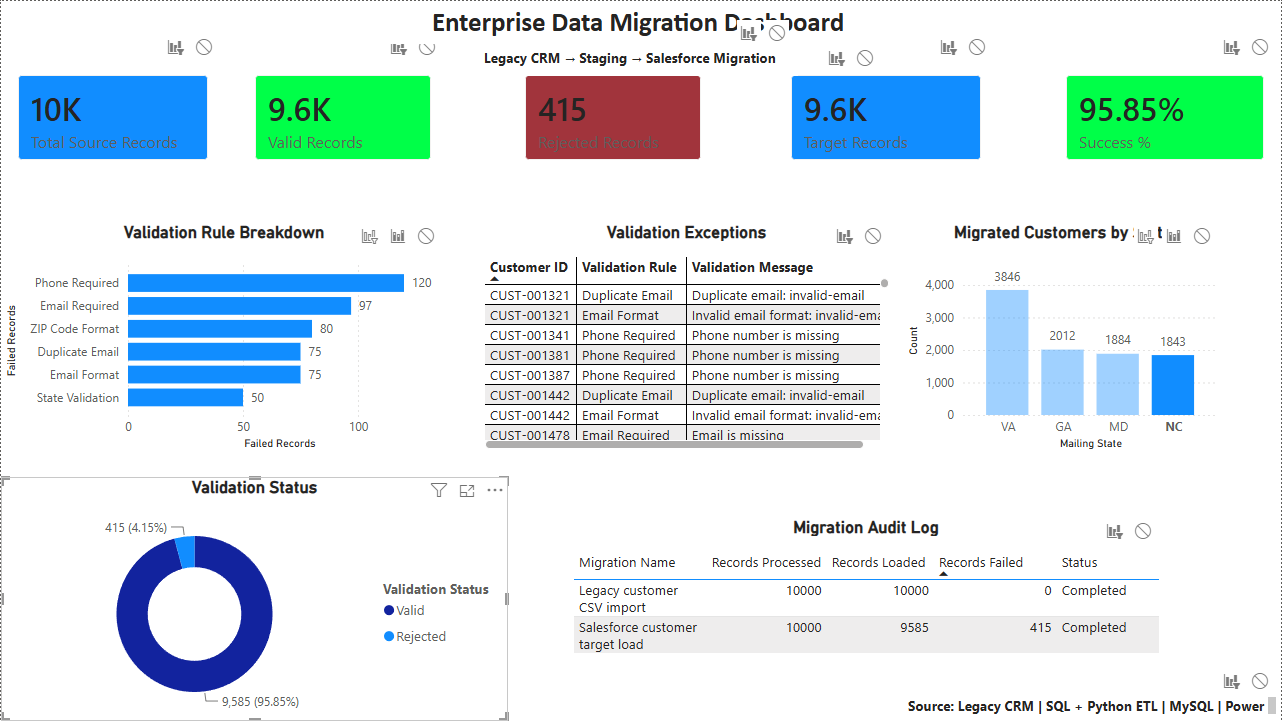

What the dashboard file says about the page in this screenshot:
{"tool":"powerbi","page":{"name":"Enterprise Data Migration Dashboard","canvas":[1280,720],"ordinal":0},"visuals":[{"type":"cardVisual","fields":{"Data":["enterprise_data_migration legacy_customers (2).Total_Source_Records"]},"box":[0,57.1,223.6,119],"z":0},{"type":"cardVisual","fields":{"Data":["Count(enterprise_data_migration staging_customers.legacy_customer_id)"]},"box":[236.7,57.1,209.9,119.4],"z":1000},{"type":"cardVisual","fields":{"Data":["enterprise_data_migration staging_customers.Rejected Records"]},"box":[506.8,57.1,209.9,119.4],"z":2000},{"type":"cardVisual","fields":{"Data":["Count(enterprise_data_migration salesforce_customers.legacy_customer_id)"]},"box":[773.2,57.1,223.3,119.4],"z":3000},{"type":"cardVisual","fields":{"Data":["enterprise_data_migration legacy_customers.Migration Success %"]},"box":[1048,57.1,231.5,119.4],"z":4000},{"type":"clusteredBarChart","title":"Validation Rule Breakdown","fields":{"Category":["enterprise_data_migration validation_results.validation_rule"],"Y":["CountNonNull(enterprise_data_migration validation_results.validation_id)"]},"box":[0,221.3,445.5,231.5],"z":5000},{"type":"donutChart","title":"Validation Status","fields":{"Category":["enterprise_data_migration staging_customers.validation_status"],"Y":["CountNonNull(enterprise_data_migration staging_customers.legacy_customer_id)"]},"box":[0,476,506.8,243.9],"z":6000},{"type":"clusteredColumnChart","title":"Migrated Customers by State","fields":{"Category":["enterprise_data_migration salesforce_customers.mailing_state"],"Y":["CountNonNull(enterprise_data_migration salesforce_customers.legacy_customer_id)"]},"box":[901.7,221.3,320,232],"z":7000},{"type":"tableEx","title":"Validation Exceptions","fields":{"Values":["enterprise_data_migration validation_results.legacy_customer_id","enterprise_data_migration validation_results.validation_rule","enterprise_data_migration validation_results.validation_message"]},"box":[478.2,221.3,415.2,232],"z":8000},{"type":"tableEx","title":"Migration Audit Log","fields":{"Values":["enterprise_data_migration migration_log.migration_name","enterprise_data_migration migration_log.records_processed","enterprise_data_migration migration_log.records_loaded","enterprise_data_migration migration_log.records_failed","enterprise_data_migration migration_log.status"]},"box":[567.4,516.3,596,164.2],"z":9000},{"type":"textbox","box":[389,0,496.1,42.8],"z":10000},{"type":"textbox","box":[478.2,42.8,318.8,32.1],"z":11000},{"type":"textbox","box":[901.7,691.2,378.3,28.6],"z":11001}]}

Visuals, with their boxes in screenshot pixels (x1, y1, x2, y2), scaled from the page's 1280x720 canvas onto the 1282x721 screenshot:
cardVisual - enterprise_data_migration legacy_customers (2).Total_Source_Records: pyautogui.locateOnScreen(0, 57, 224, 176)
cardVisual - Count(enterprise_data_migration staging_customers.legacy_customer_id): pyautogui.locateOnScreen(237, 57, 447, 177)
cardVisual - enterprise_data_migration staging_customers.Rejected Records: pyautogui.locateOnScreen(508, 57, 718, 177)
cardVisual - Count(enterprise_data_migration salesforce_customers.legacy_customer_id): pyautogui.locateOnScreen(774, 57, 998, 177)
cardVisual - enterprise_data_migration legacy_customers.Migration Success %: pyautogui.locateOnScreen(1050, 57, 1281, 177)
"Validation Rule Breakdown" clusteredBarChart: pyautogui.locateOnScreen(0, 222, 446, 453)
"Validation Status" donutChart: pyautogui.locateOnScreen(0, 477, 508, 720)
"Migrated Customers by State" clusteredColumnChart: pyautogui.locateOnScreen(903, 222, 1224, 454)
"Validation Exceptions" tableEx: pyautogui.locateOnScreen(479, 222, 895, 454)
"Migration Audit Log" tableEx: pyautogui.locateOnScreen(568, 517, 1165, 681)
textbox: pyautogui.locateOnScreen(390, 0, 886, 43)
textbox: pyautogui.locateOnScreen(479, 43, 798, 75)
textbox: pyautogui.locateOnScreen(903, 692, 1281, 720)
